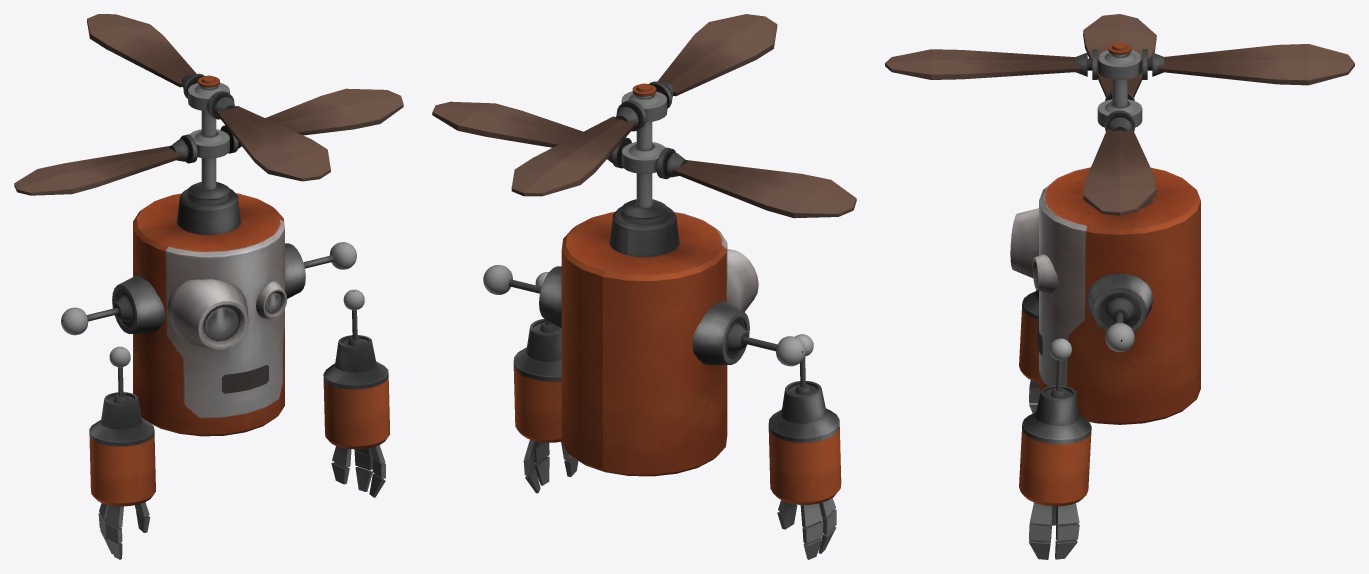
Rendered from Robothead_PropellerHead_01.obj.
The picture shows the model from 3 angles, left to right: view 1: azimuth 30°, elevation 25°; view 2: azimuth 150°, elevation 25°; view 3: azimuth 270°, elevation 25°; orthographic projection. The views are drawn at different scales.
Parts seen in each view (by area): view 1: Head_Untitled.002, Body_Untitled.004, HeadGlow_Untitled.005, BodyGlow_Untitled.006; view 2: Head_Untitled.002, Body_Untitled.004, HeadGlow_Untitled.005; view 3: Head_Untitled.002, Body_Untitled.004, HeadGlow_Untitled.005.
Part boxes in pixels (left/top/right/bottom): Head_Untitled.002: left=14, top=14, right=403, bottom=436; Body_Untitled.004: left=89, top=291, right=389, bottom=559; HeadGlow_Untitled.005: left=61, top=242, right=356, bottom=340; BodyGlow_Untitled.006: left=109, top=289, right=364, bottom=367; Head_Untitled.002: left=432, top=14, right=856, bottom=476; Body_Untitled.004: left=513, top=319, right=841, bottom=559; HeadGlow_Untitled.005: left=483, top=265, right=805, bottom=366; Head_Untitled.002: left=885, top=14, right=1354, bottom=424; Body_Untitled.004: left=1019, top=290, right=1091, bottom=559; HeadGlow_Untitled.005: left=1036, top=265, right=1134, bottom=352.
Size of the model in its own units: 0.5933 by 0.625 by 0.5933.
Materials: 2 (2 with a texture image).
